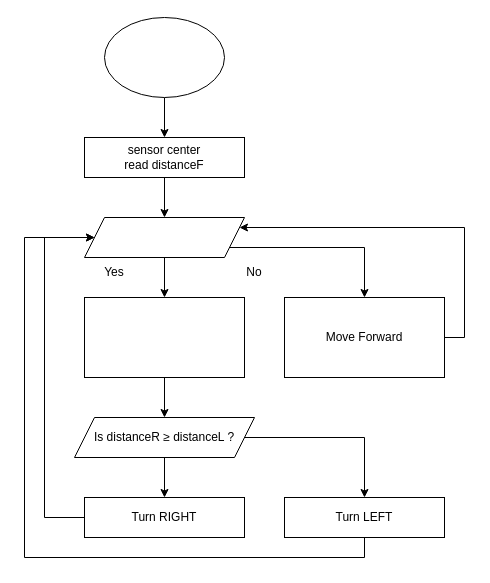
Some shapes in this 490 by 583 pixel diagram are drawn without their labels. The box of each missing label's shape, as (x1, y1, x2, y2) in pixels:
Is distanceF ≤ 15 cm ?: (84, 216, 244, 258)
START: (104, 16, 224, 98)
Stop Motors Move Backward Check distanceR Check distanceL: (84, 296, 244, 378)
